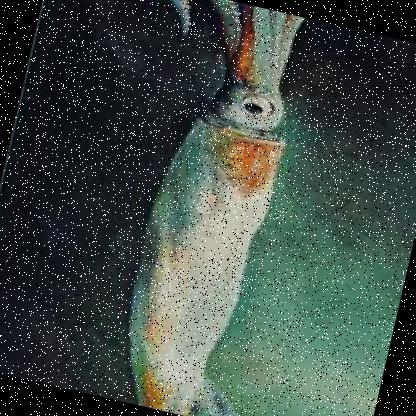colossal_squid: (26, 0, 351, 415)
